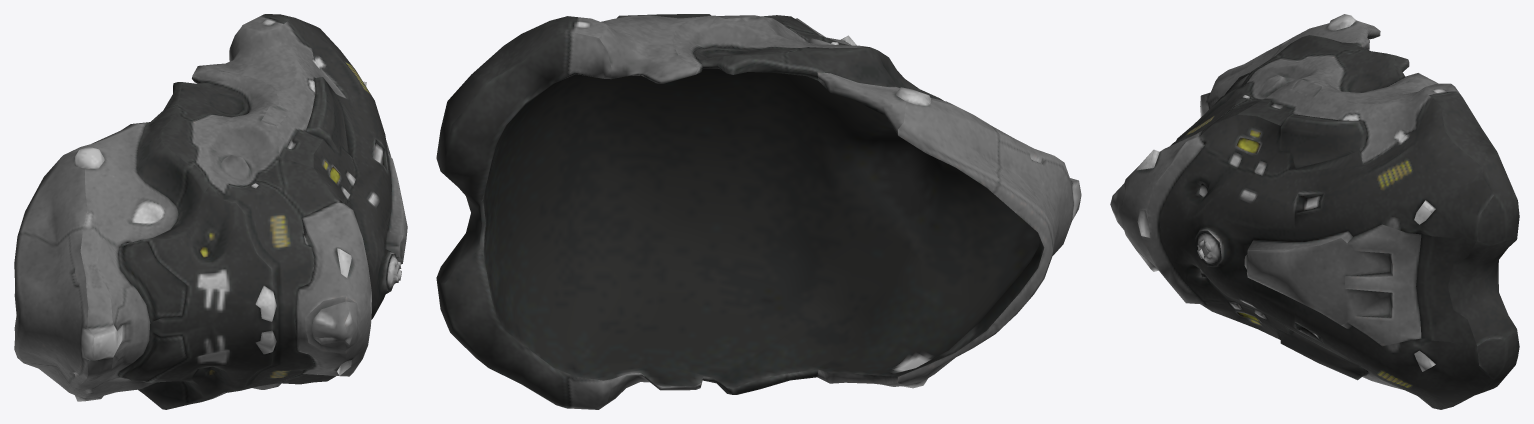
File: M_CyberneticMask.fbx
The picture shows the model from 3 angles, left to right: view 1: azimuth 30°, elevation 25°; view 2: azimuth 150°, elevation 25°; view 3: azimuth 270°, elevation 25°; orthographic projection. The views are drawn at different scales.
Visible parts, largest first — view 1: Mask10; view 2: Mask10; view 3: Mask10.
Boxes of the visible parts, x1,y1,x2,y2 form: Mask10: (14,14,407,409); Mask10: (436,14,1081,409); Mask10: (1110,14,1519,409).
Size of the model in its own units: 0.1806 by 0.1313 by 0.157.
